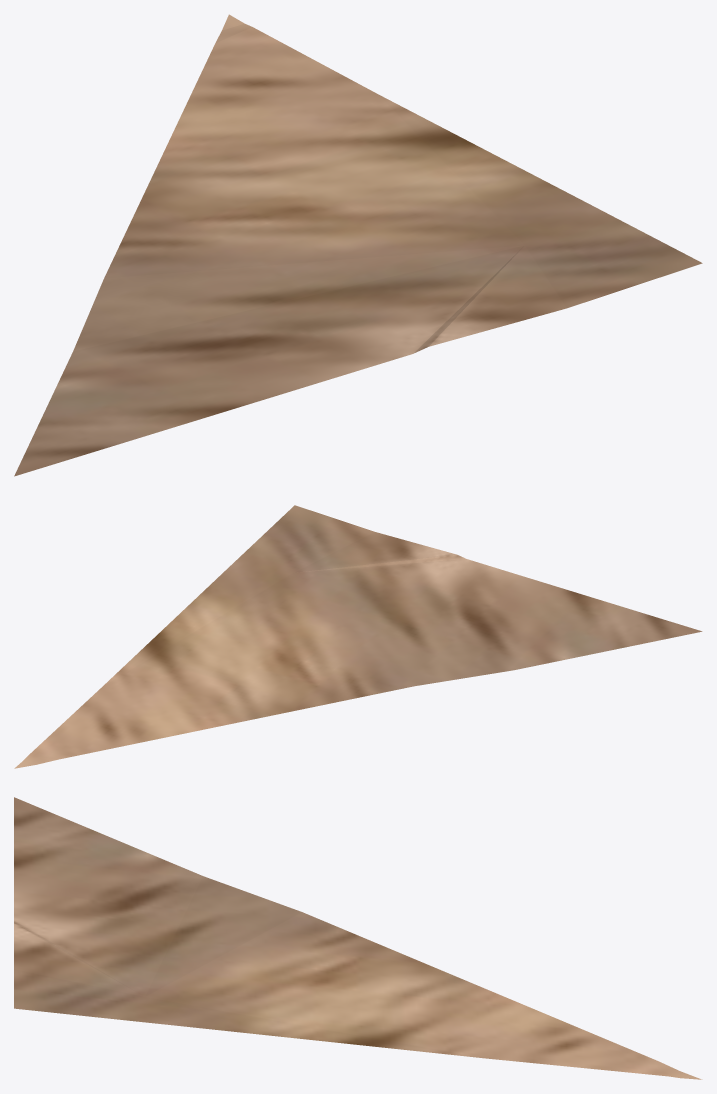
3 renders of one model, top to bottom at view 1: azimuth 30°, elevation 25°; view 2: azimuth 150°, elevation 25°; view 3: azimuth 270°, elevation 25°, orthographic. The views are drawn at different scales.
Size of the model in its own units: 0.8281 by 0.1126 by 0.9867.
Materials: 1 (1 with a texture image).
